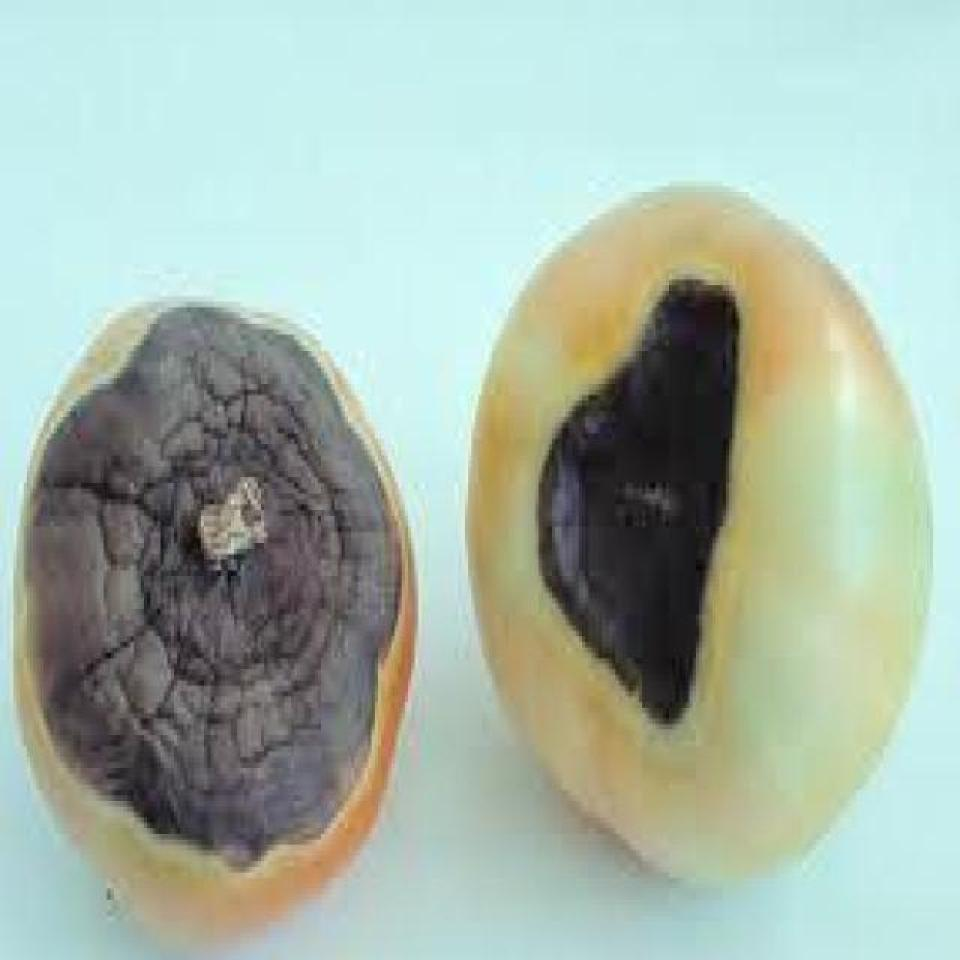Blossom_end_rot: (22, 296, 400, 872), (528, 263, 740, 730)
